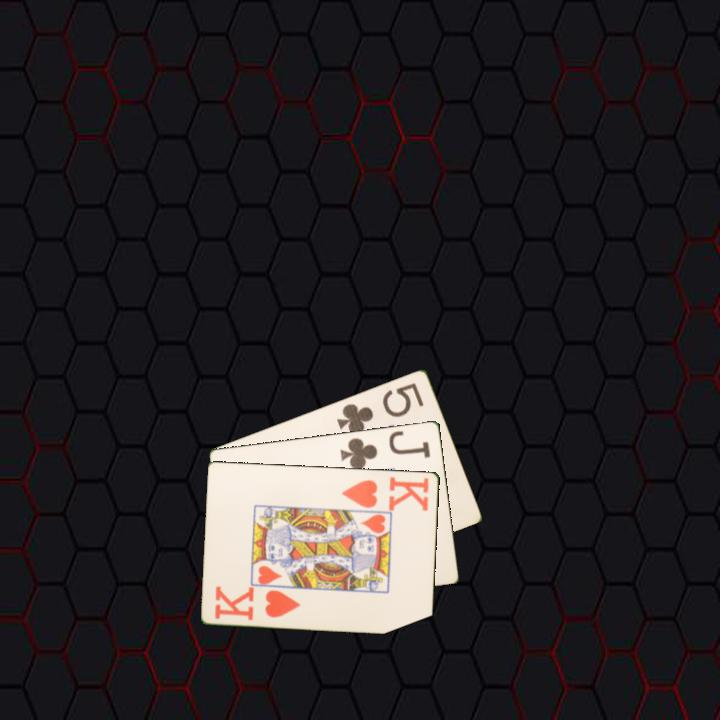5c: (333, 379, 427, 437)
Jc: (337, 427, 433, 472)
Kh: (339, 473, 432, 513), (212, 583, 304, 623)
